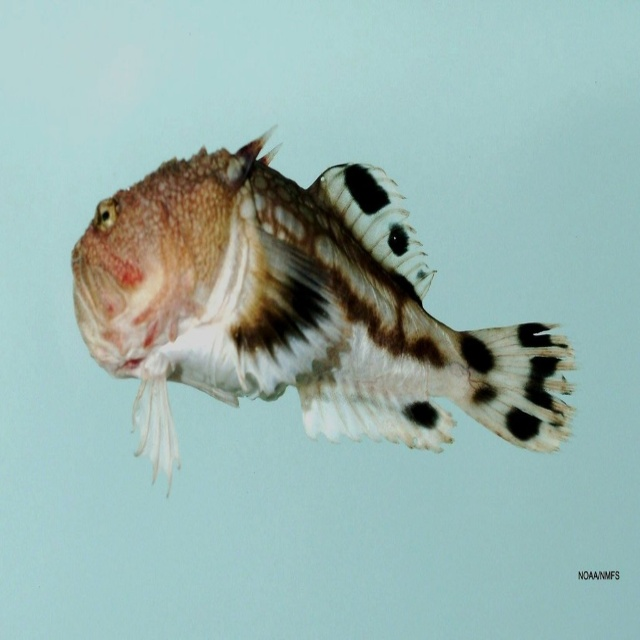Fish: (78, 128, 562, 491)
